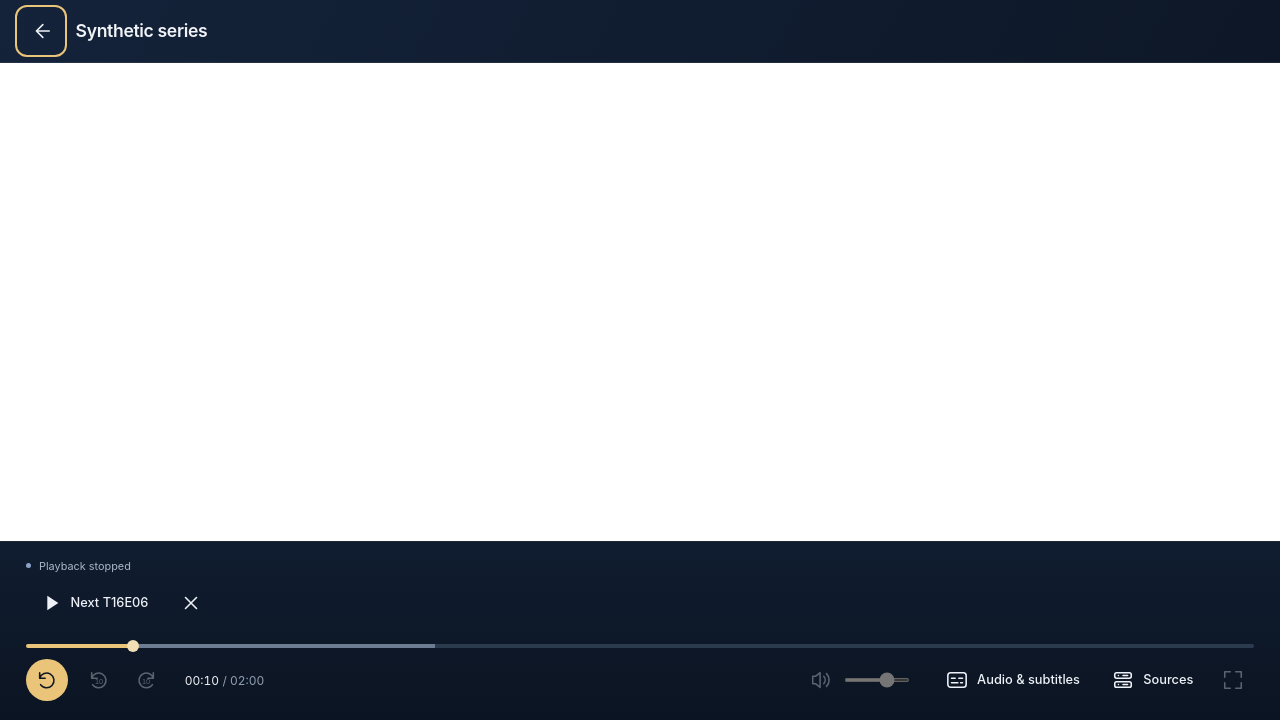
Test: cinema player interactions › dismisses the offer without resolving anything and stays offered once
Click the button named "Dismiss next episode" at [191, 603], box x1=170 y1=582 x2=212 y2=624
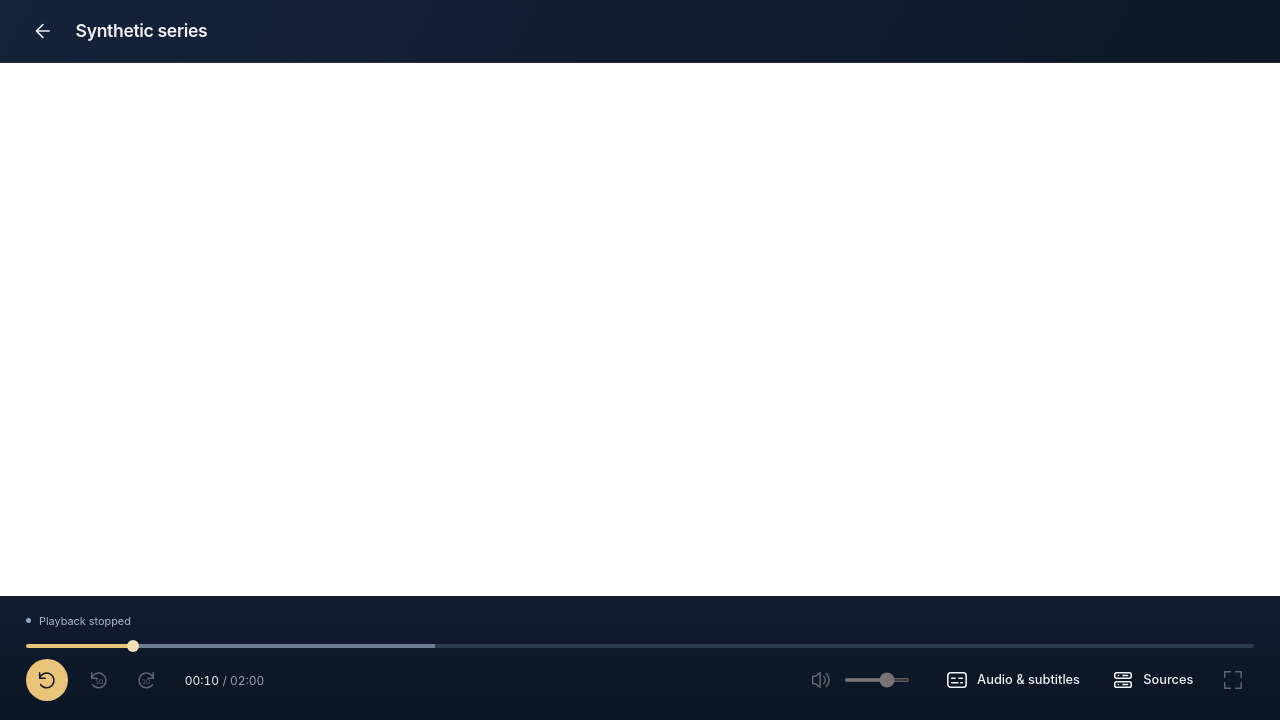
Check: the button "Next T16E06" is gone
